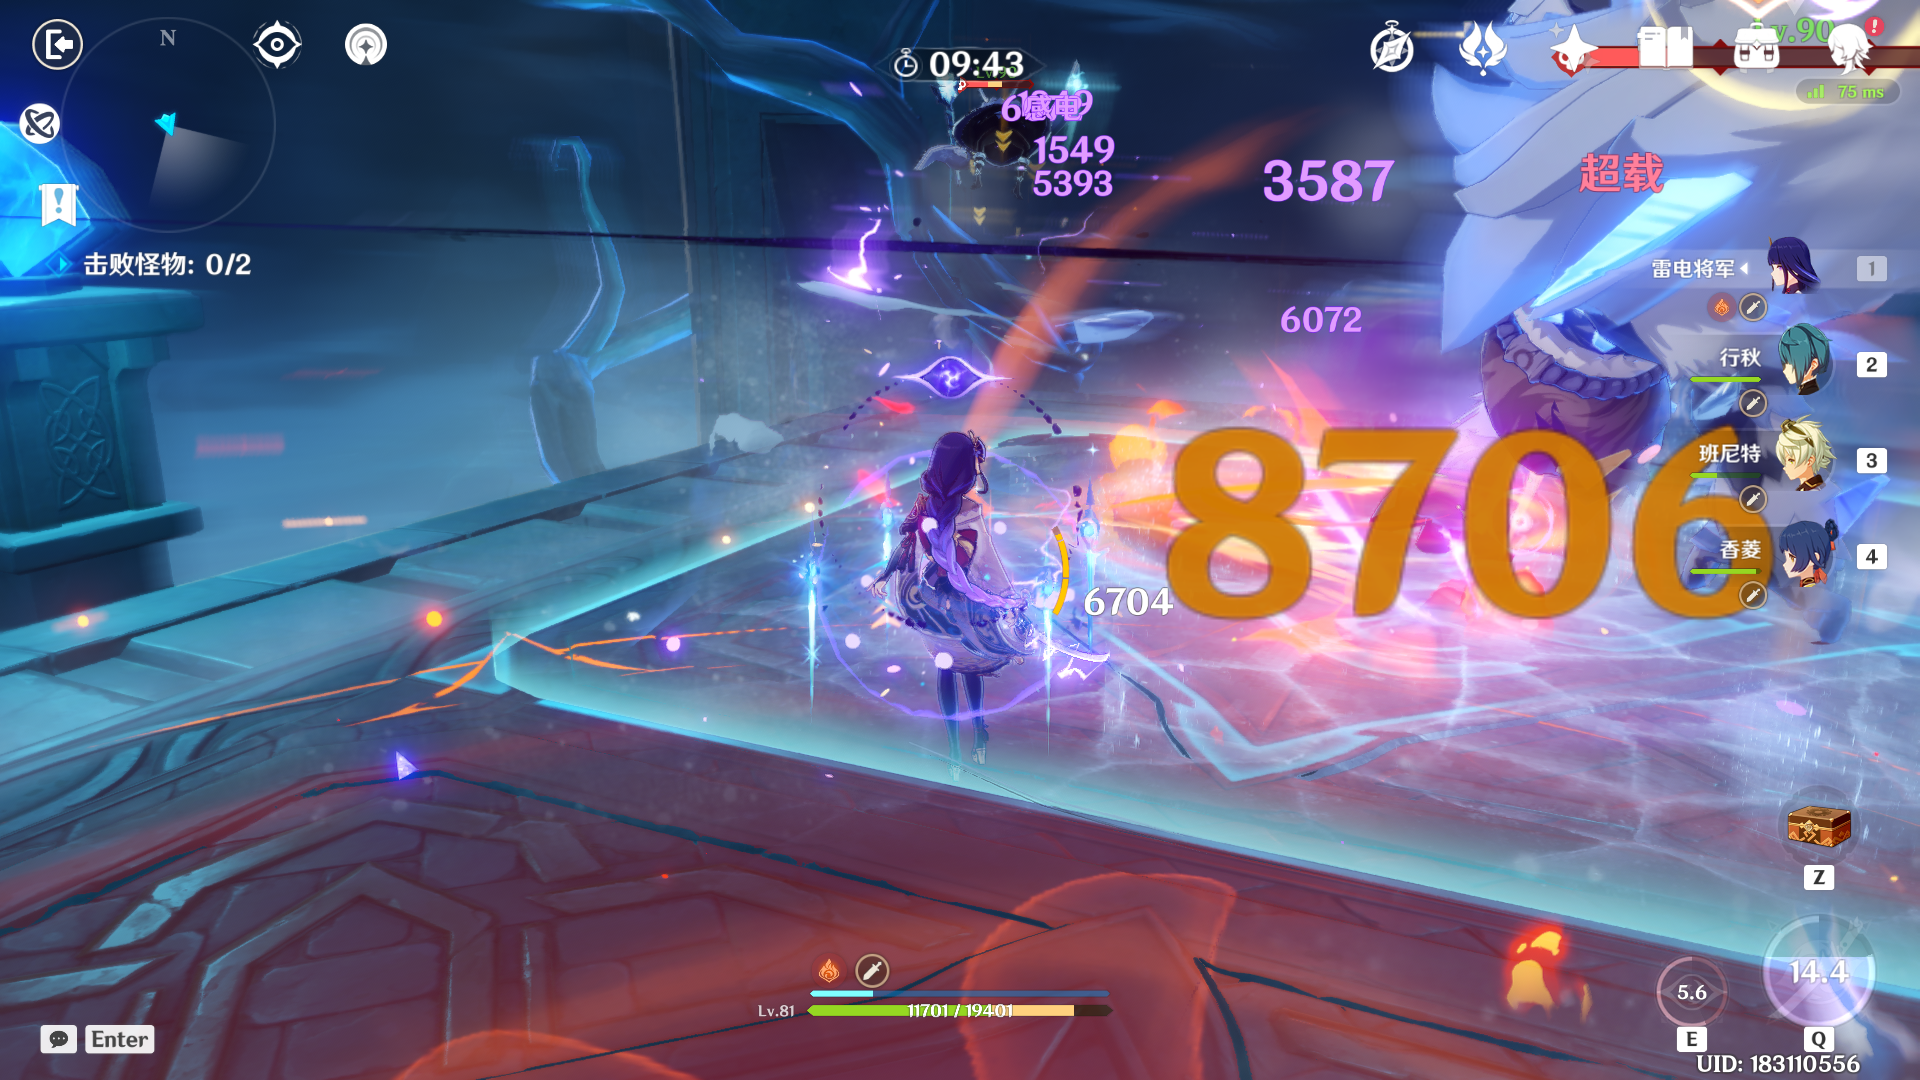character: (847, 414, 1083, 782)
